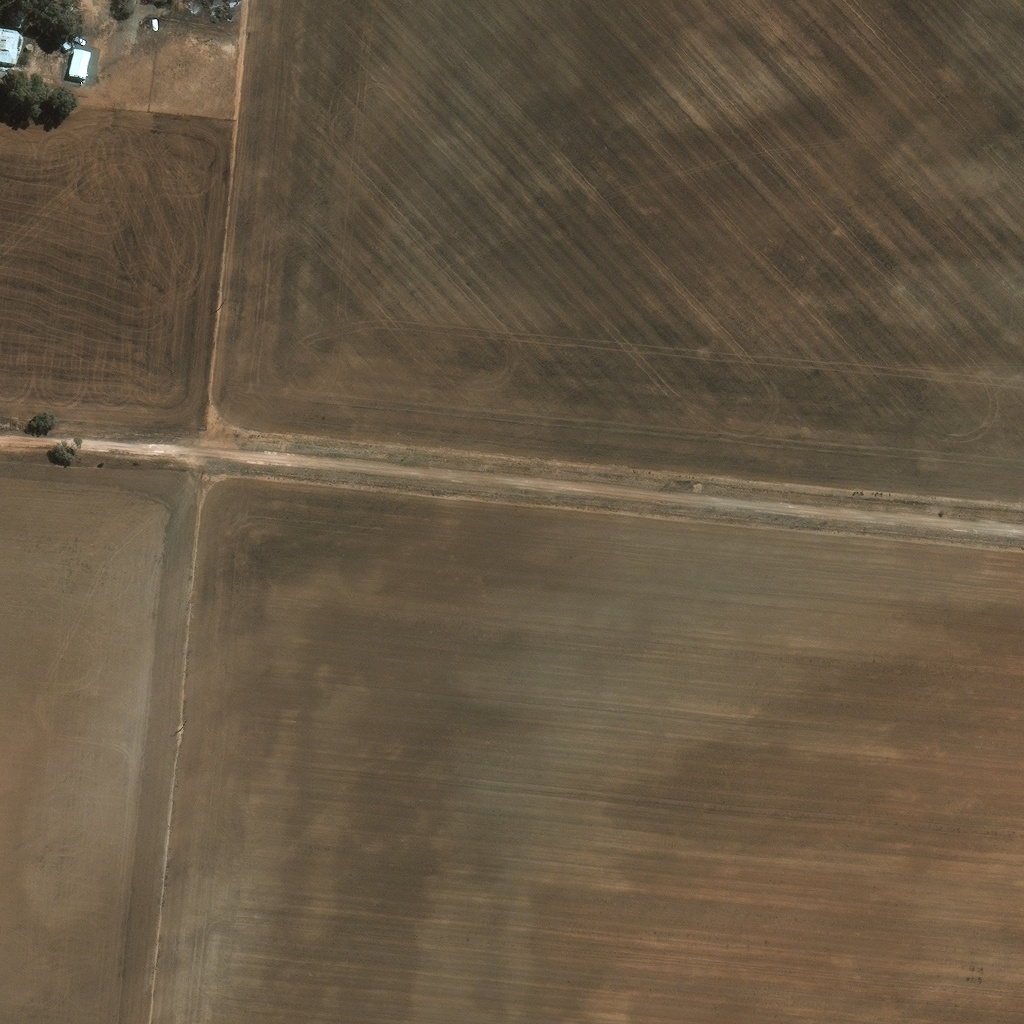0 no-damage: (0, 24, 26, 62), (69, 45, 93, 78), (153, 15, 160, 28)
